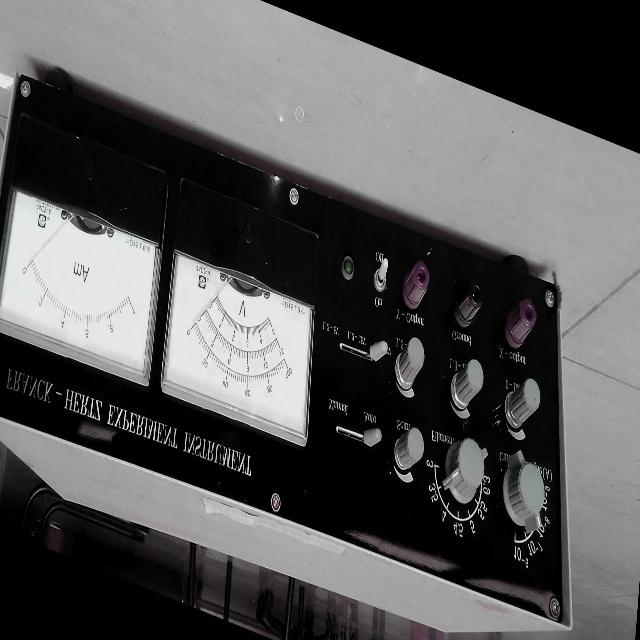Frank-Hertz Experiment Apparatus: (0, 14, 611, 640)
